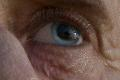eye: (52, 21, 78, 45)
